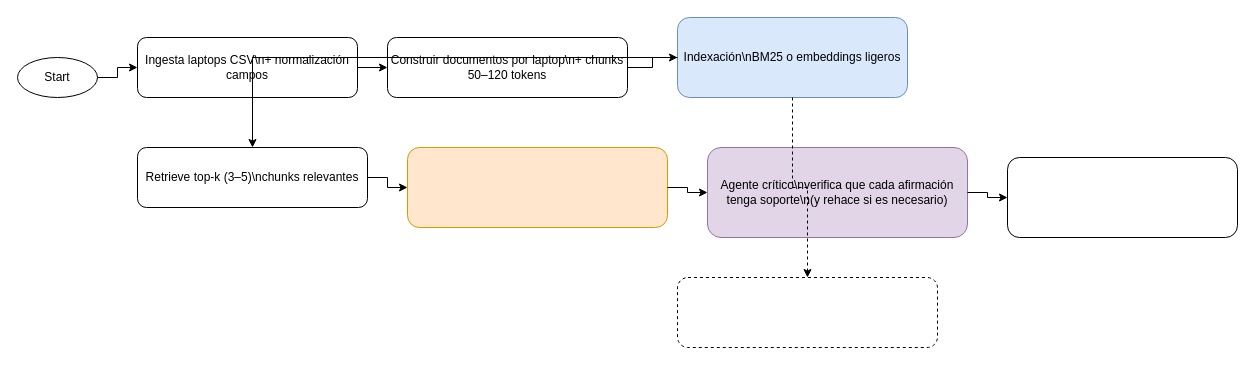
Some shapes in this 1255 by 365 pixel diagram are drawn without their labels. The centre of each missing label's shape, as x and y in pixels:
LLM: generar respuesta\n≤120 palabras + citas [laptop_id:campo]: (x=537, y=187)
MCP opcional\nexponer índice/funciones como servidor: (x=807, y=312)
Respuesta final al usuario\n+ log de decisiones del agente: (x=1122, y=197)
